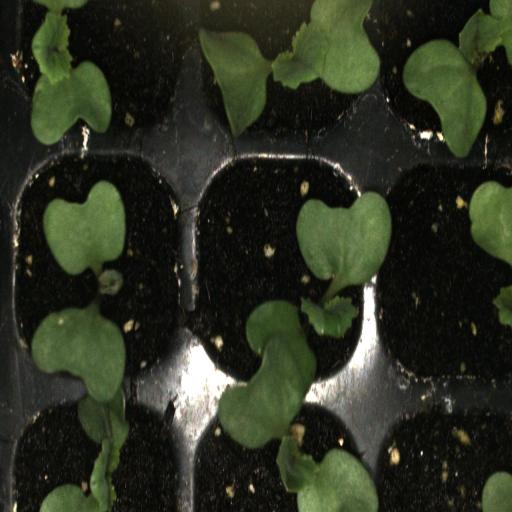Folha: (43, 180, 126, 295), (468, 181, 512, 265)
Germinacao: (186, 154, 372, 391), (6, 151, 186, 385), (5, 0, 191, 151), (195, 0, 371, 151), (188, 389, 373, 512), (6, 388, 186, 512), (372, 0, 512, 156)
